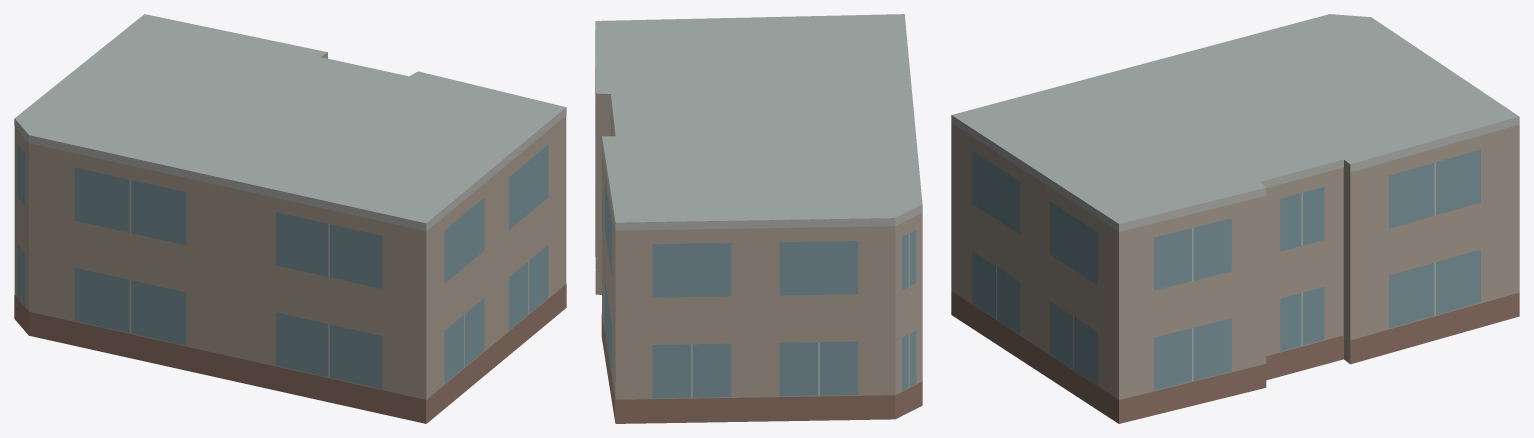
Rendered from survey-upis-32691815.glb.
3 views of the same model, side by side, from view 1: azimuth 30°, elevation 25°; view 2: azimuth 150°, elevation 25°; view 3: azimuth 270°, elevation 25° (orthographic).
Parts seen in each view (by area): view 1: survey-upis-32691815.tmp; view 2: survey-upis-32691815.tmp; view 3: survey-upis-32691815.tmp.
Boxes of the visible parts, x1,y1,x2,y2 form: survey-upis-32691815.tmp: [14, 14, 566, 423]; survey-upis-32691815.tmp: [595, 14, 922, 423]; survey-upis-32691815.tmp: [951, 14, 1519, 423].
Size of the model in its own units: 13.75 by 6.1 by 15.72.
